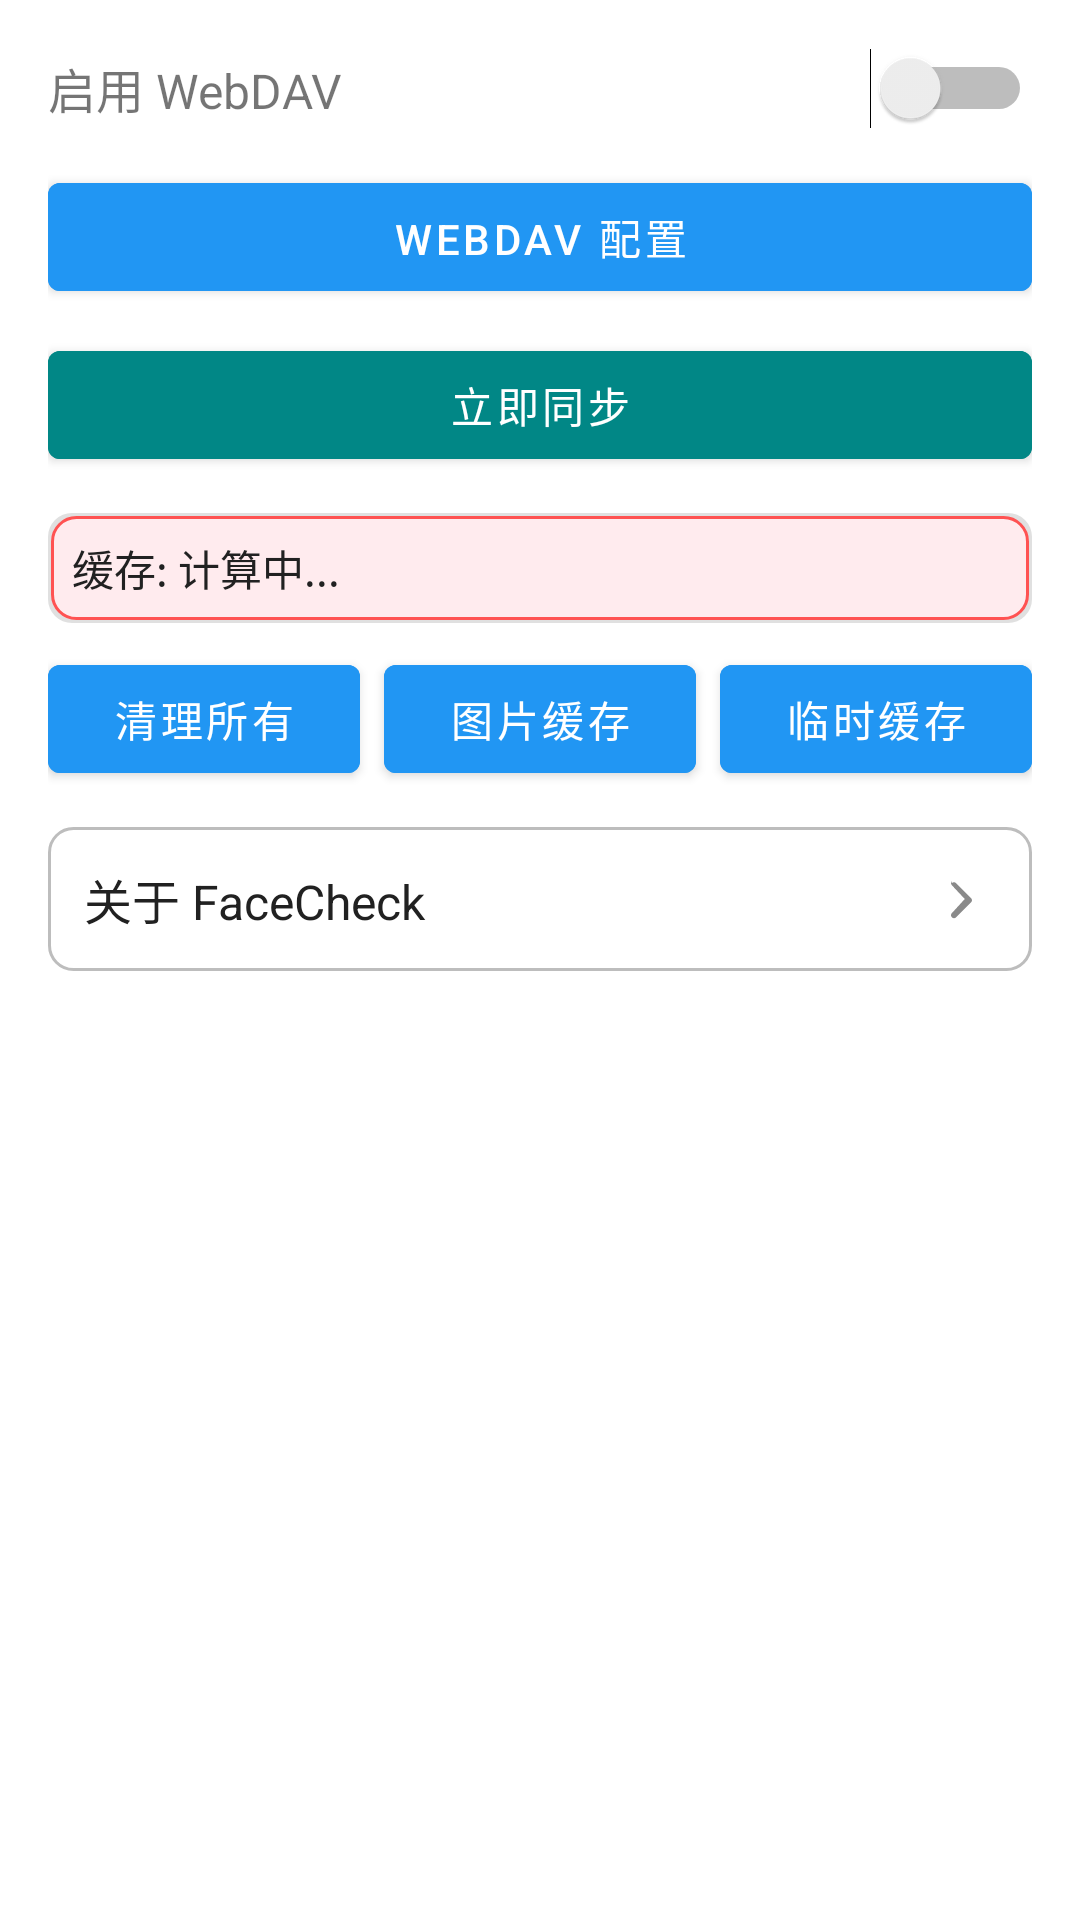

Where icons sit on this 1080 x 1920 app screen, as [x1=x1, y1=y1, x2=x2, y2=y2]:
chevron right: [x1=951, y1=881, x2=972, y2=918]
